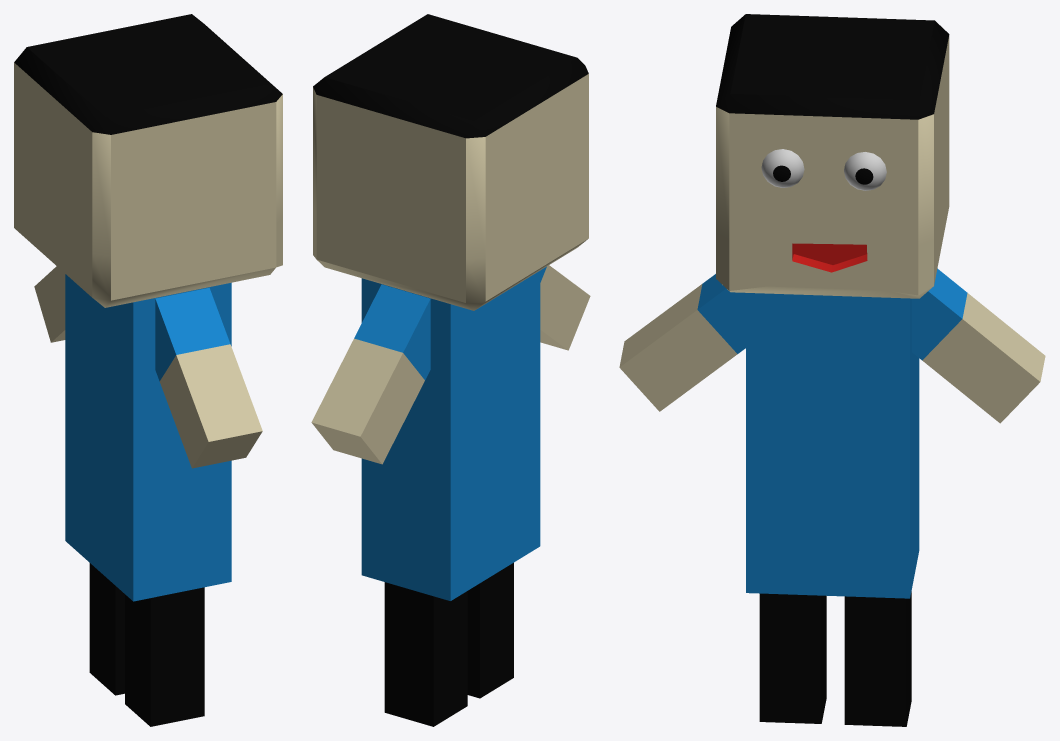
3 renders of one model, left to right at view 1: azimuth 30°, elevation 25°; view 2: azimuth 150°, elevation 25°; view 3: azimuth 270°, elevation 25°, orthographic. The views are drawn at different scales.
Parts seen in each view (by area): view 1: 立方体, 立方体_1, 立方体_2, 立方体_5, 立方体_4, 立方体_3; view 2: 立方体, 立方体_1, 立方体_3, 立方体_4, 立方体_5, 立方体_2; view 3: 立方体, 立方体_1, 立方体_3, 立方体_2, 立方体_4, 立方体_5, 球体, 球体_1.
Part boxes in pixels (x1=…): 立方体: x1=14, y1=14, x2=282, y2=307; 立方体_1: x1=65, y1=274, x2=231, y2=601; 立方体_2: x1=155, y1=287, x2=262, y2=468; 立方体_5: x1=125, y1=587, x2=204, y2=726; 立方体_4: x1=89, y1=563, x2=124, y2=695; 立方体_3: x1=34, y1=266, x2=65, y2=342; 立方体: x1=313, y1=14, x2=588, y2=310; 立方体_1: x1=361, y1=271, x2=540, y2=600; 立方体_3: x1=311, y1=284, x2=430, y2=464; 立方体_4: x1=384, y1=582, x2=467, y2=726; 立方体_5: x1=467, y1=562, x2=513, y2=698; 立方体_2: x1=540, y1=265, x2=590, y2=350; 立方体: x1=716, y1=14, x2=949, y2=298; 立方体_1: x1=746, y1=293, x2=919, y2=598; 立方体_3: x1=912, y1=268, x2=1045, y2=423; 立方体_2: x1=619, y1=274, x2=745, y2=411; 立方体_4: x1=844, y1=591, x2=911, y2=726; 立方体_5: x1=759, y1=593, x2=826, y2=723; 球体: x1=761, y1=149, x2=804, y2=187; 球体_1: x1=844, y1=152, x2=886, y2=190.
Bounding box in the file's own units: 279 × 827 × 488.
